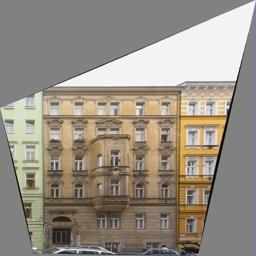building: (42, 83, 182, 253)
